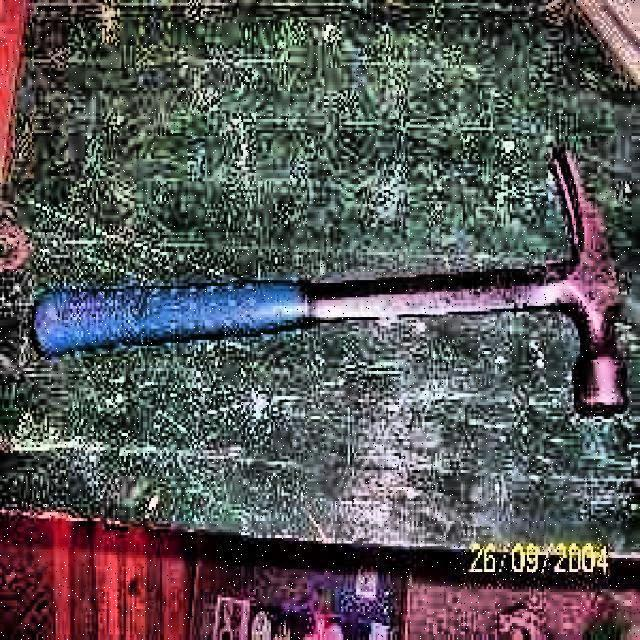hammer: (20, 145, 630, 415)
